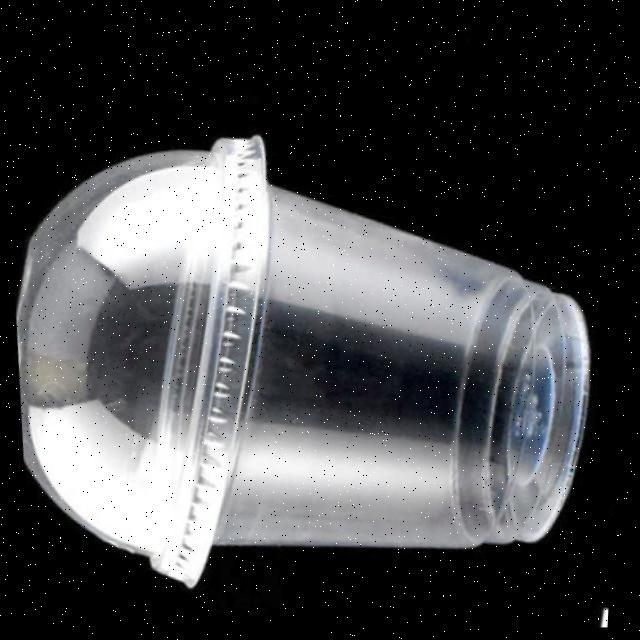cup: (0, 142, 634, 587)
